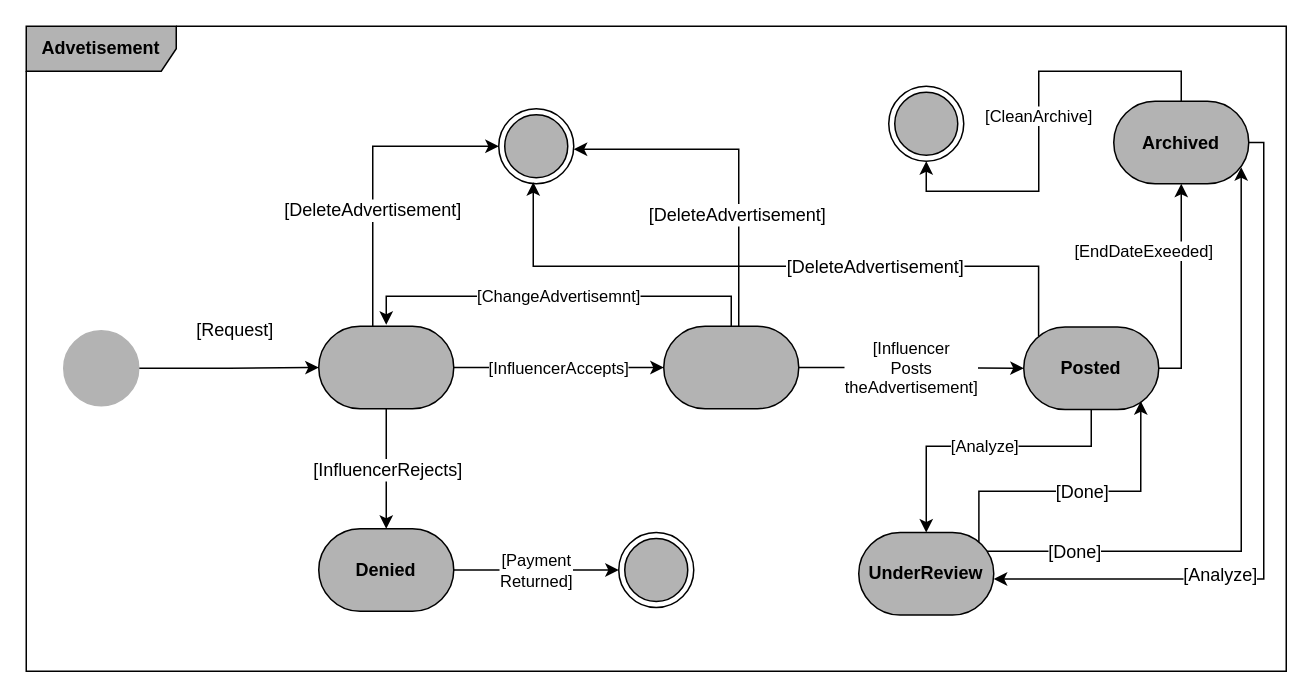
Image size: 1313x698. Some labels were removed from this diagram. The shapes that lost their labels are listed below. From the top down, each one's centre as x and y in pixels, then its label:
(385,367): Pending
(730,367): InQueue
